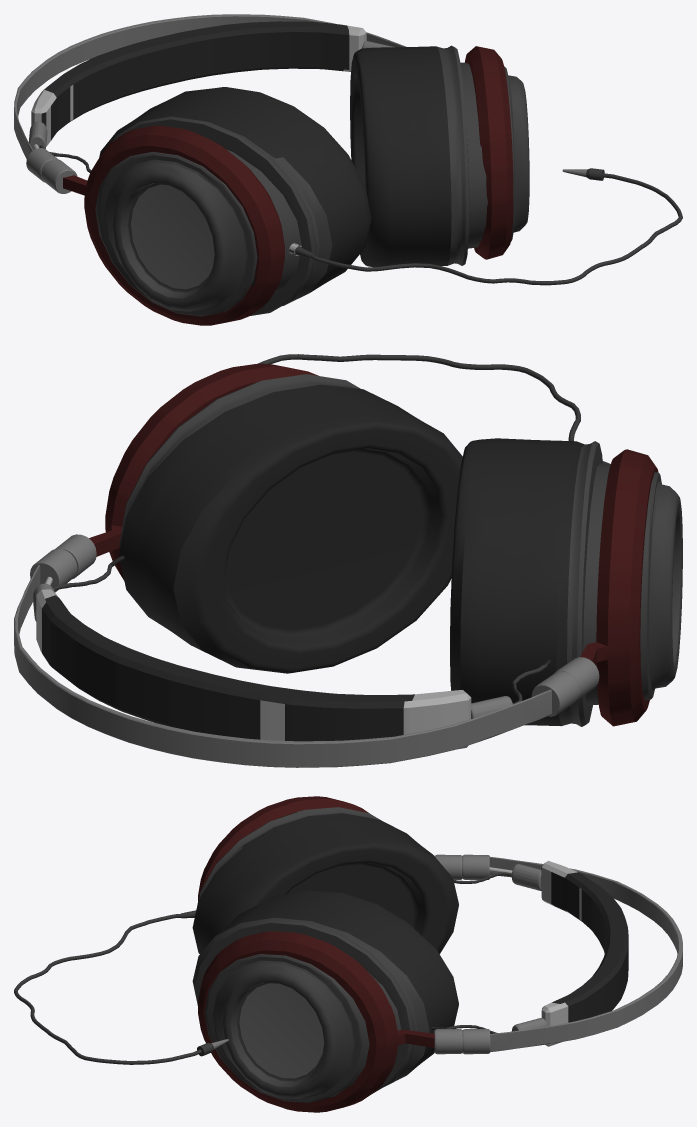
File: hhh.fbx
The picture shows the model from 3 angles, top to bottom: view 1: azimuth 30°, elevation 25°; view 2: azimuth 150°, elevation 25°; view 3: azimuth 270°, elevation 25°; orthographic projection. The views are drawn at different scales.
Visible parts, largest first — view 1: pasted__pasted__pCylinder4; view 2: pasted__pasted__pCylinder4; view 3: pasted__pasted__pCylinder4.
Part boxes in pixels (bbox=[...]): pasted__pasted__pCylinder4: bbox=[14, 14, 682, 325]; pasted__pasted__pCylinder4: bbox=[14, 354, 682, 767]; pasted__pasted__pCylinder4: bbox=[14, 796, 682, 1112].
Size of the model in its own units: 16.6 by 6.76 by 23.25.
